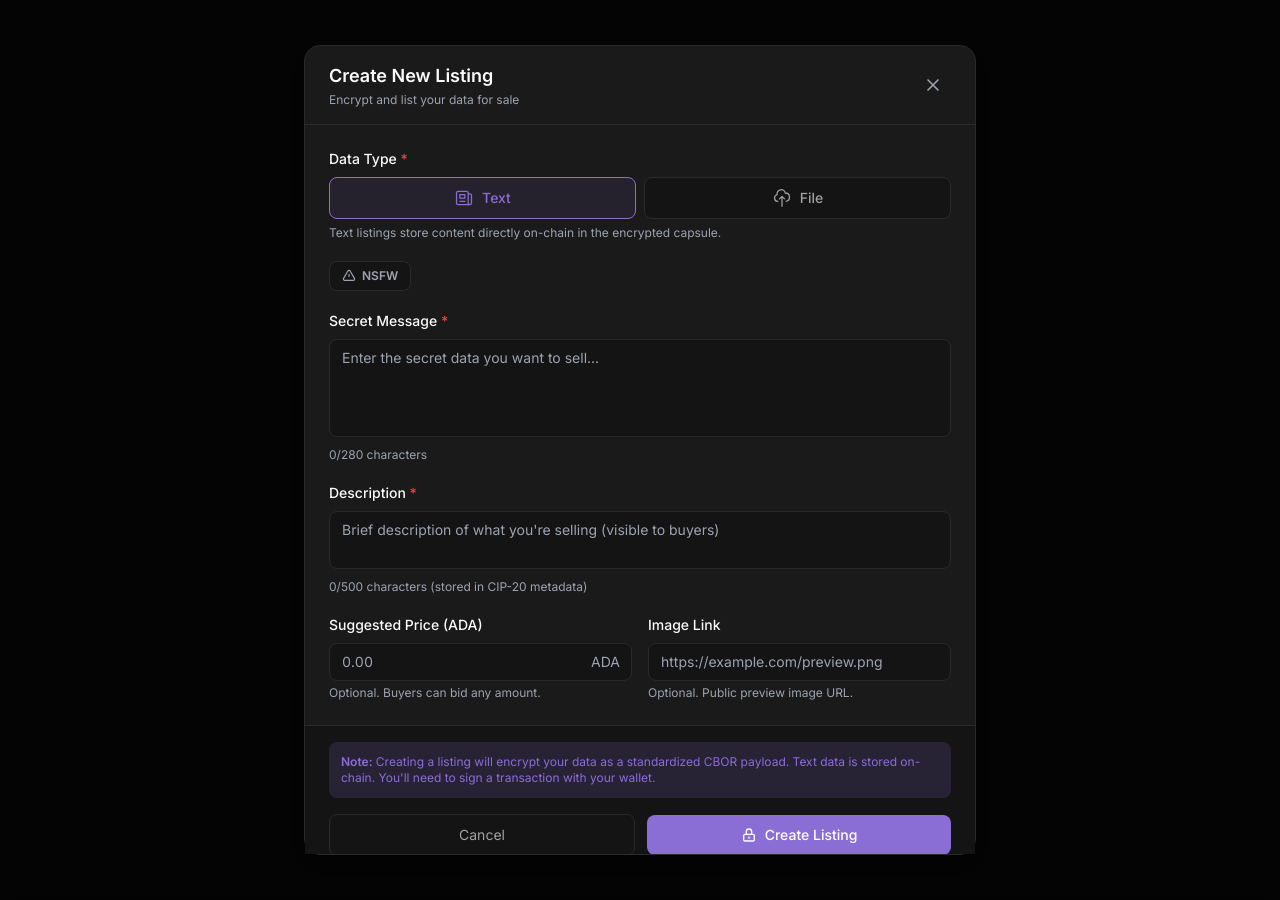
Test: CreateListingModal › switches back to text mode and clears file state
Step 1. Click the button "File" → (798, 198), box 644,177 -> 951,219
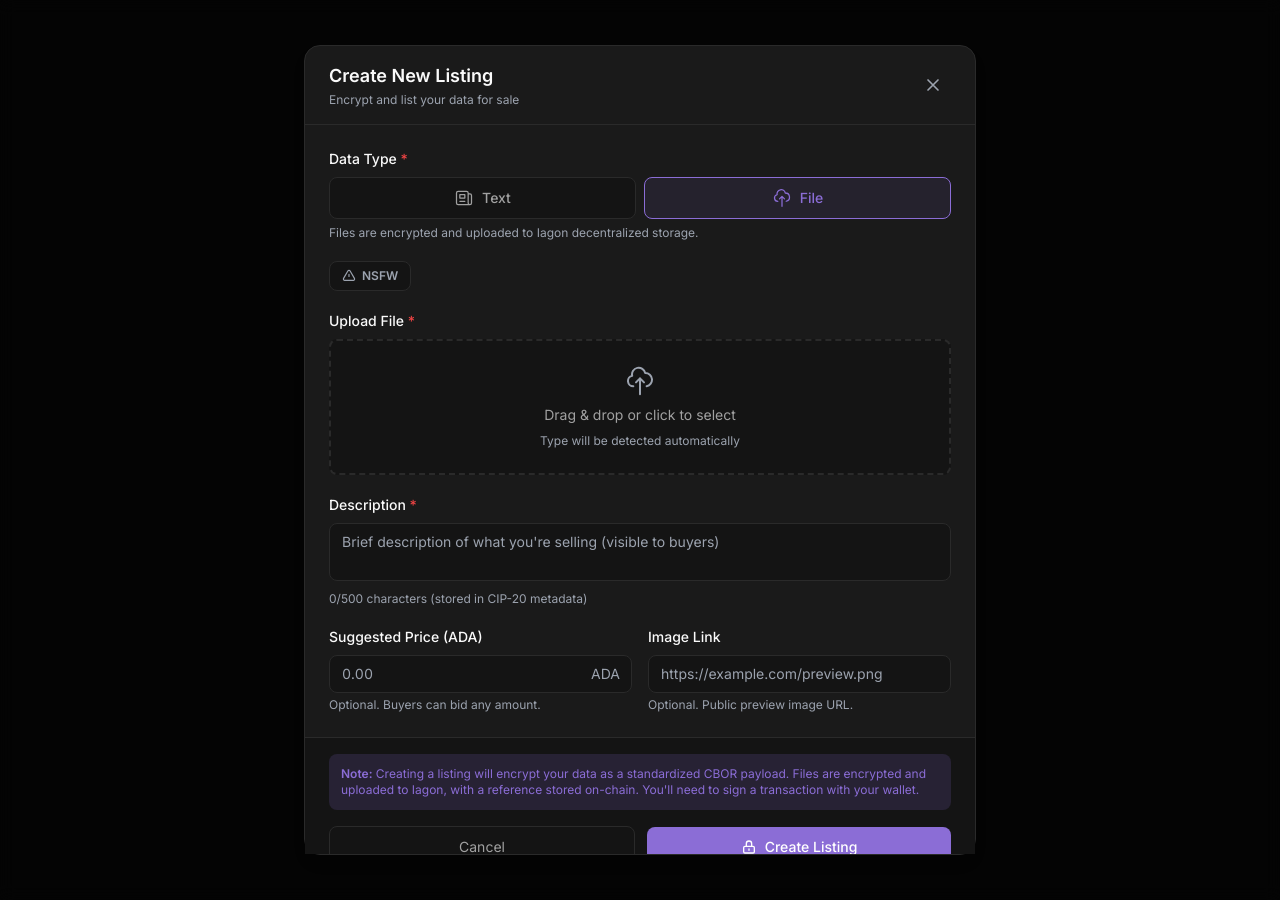
Step 2. Click the button "Text" → (482, 198), box 329,177 -> 636,219
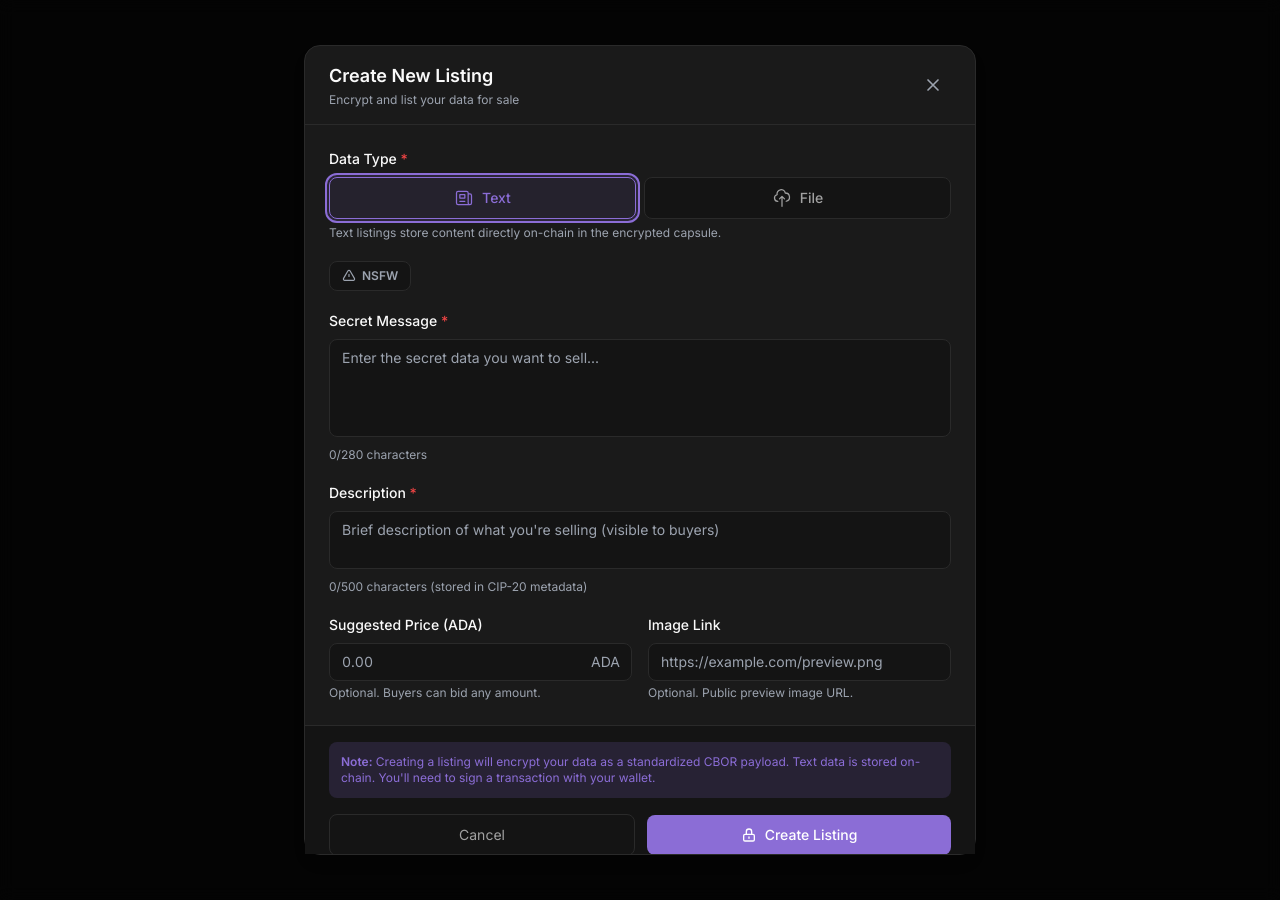
Expected: the text box labelled "Secret Message *" is shown, 329,339 -> 951,437
